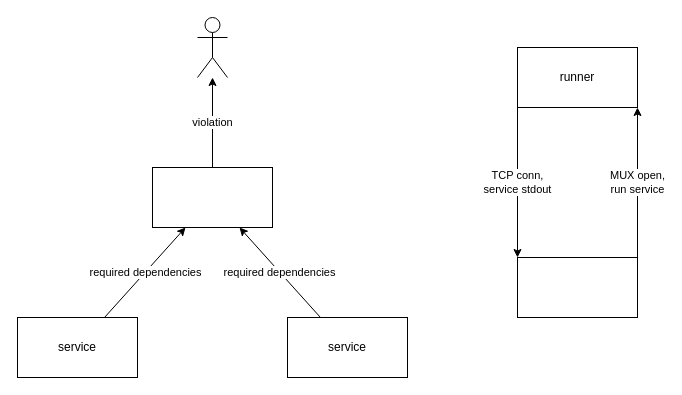
Some shapes in this 682 by 395 pixel diagram are drawn without their labels. The centre of each missing label's shape, as x and y in pixels:
"control" belongs at (577,287).
"dependencies" belongs at (212,197).
